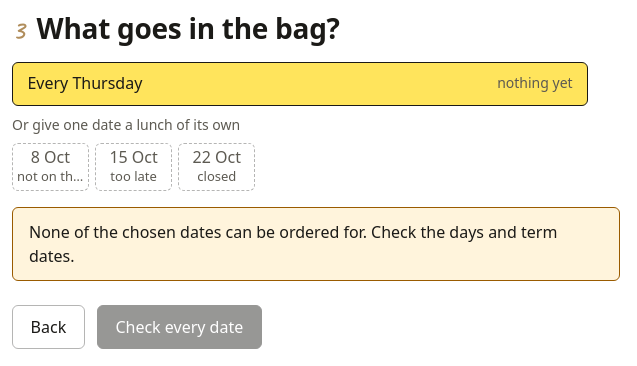
Test: WhatStep › marks a date the canteen has closed, missed or never listed
Check: the button "15 Oct too late" is shown, box [95,143,172,191]
Check: the button "22 Oct closed" is shown, box [178,143,255,191]
Step 1. Click the button "8 Oct not on the calendar" → (50, 167), box [12,143,89,191]
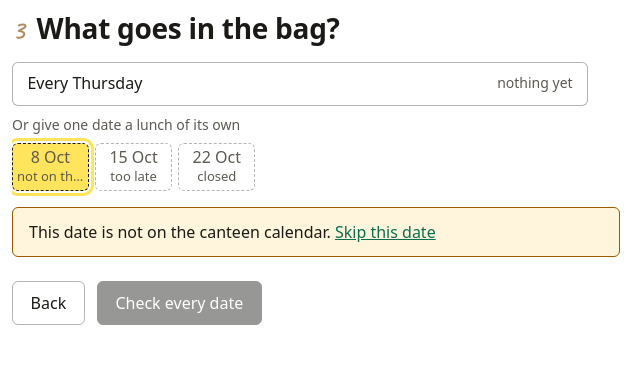
Check: the message shows "This date is not on the canteen calendar.", box [29,221,331,243]
Step 2. Click the button "15 Oct too late" → (134, 167), box [95,143,172,191]
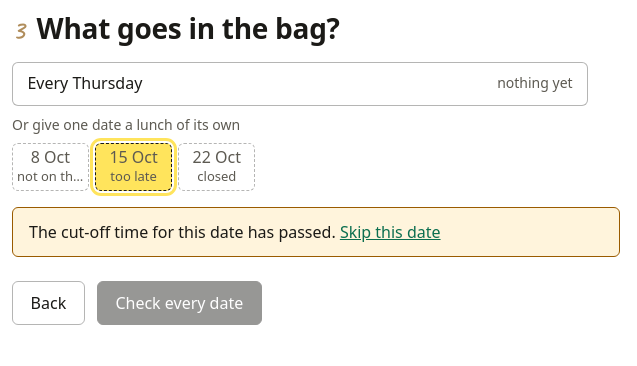
Check: the message shows "The cut-off time for this date has passed.", box [29,221,336,243]
